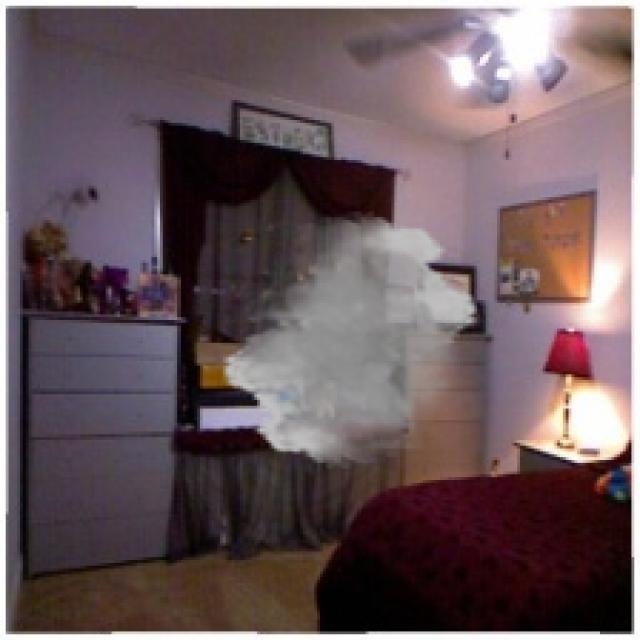Smoke: (220, 212, 480, 468)
